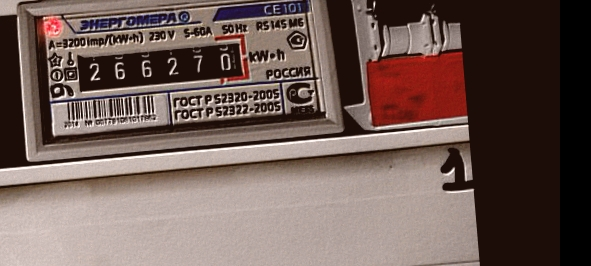0: (218, 51, 232, 72)
2: (86, 60, 102, 82), (165, 55, 179, 77)
6: (112, 60, 127, 81), (138, 58, 153, 78)
7: (190, 53, 205, 75)
screen: (66, 30, 257, 102)
